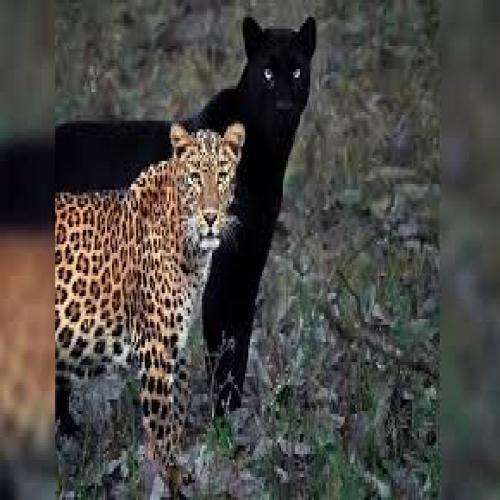panther-endangered: (57, 11, 319, 412)
